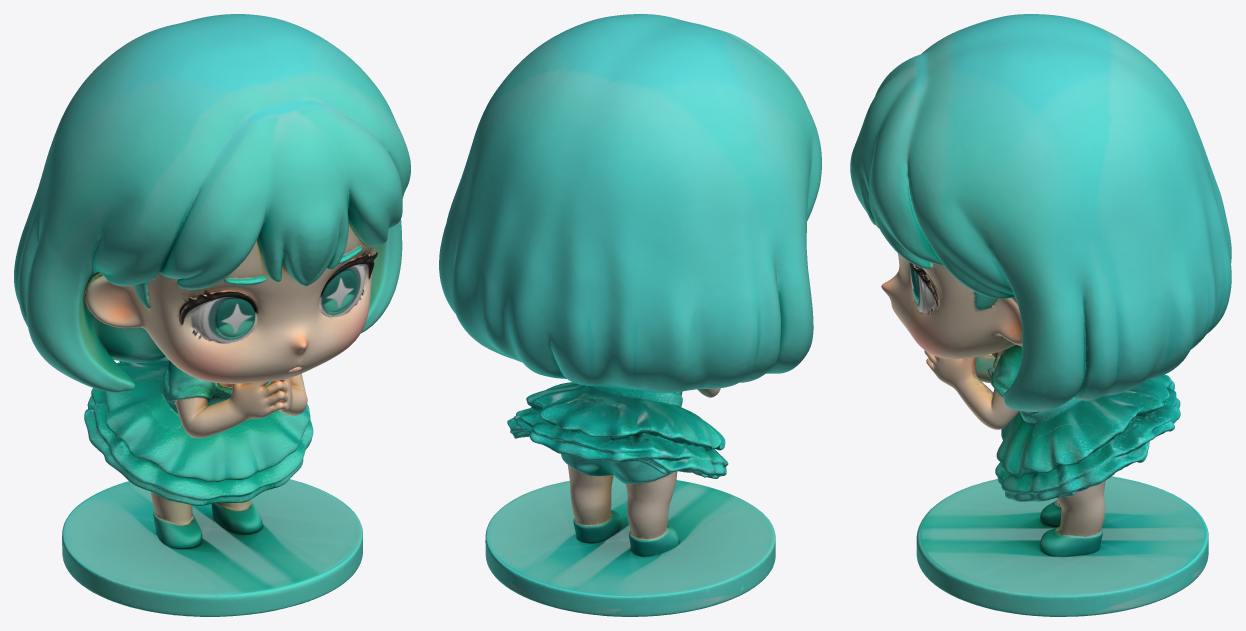
The model's file is Sparkle.glb.
3 renders of one model, left to right at view 1: azimuth 30°, elevation 25°; view 2: azimuth 150°, elevation 25°; view 3: azimuth 270°, elevation 25°, orthographic. The views are drawn at different scales.
Size of the model in its own units: 1.38 by 1.9 by 1.27.
1 material, 1 textured.
